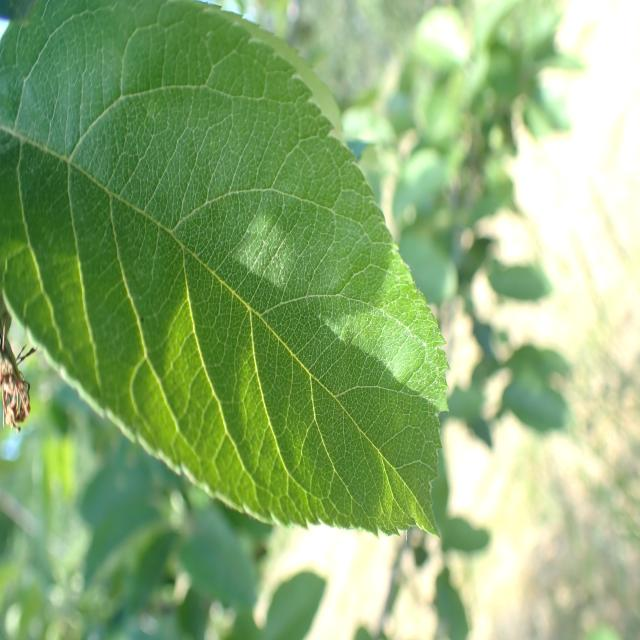healthy: (0, 2, 450, 539)
